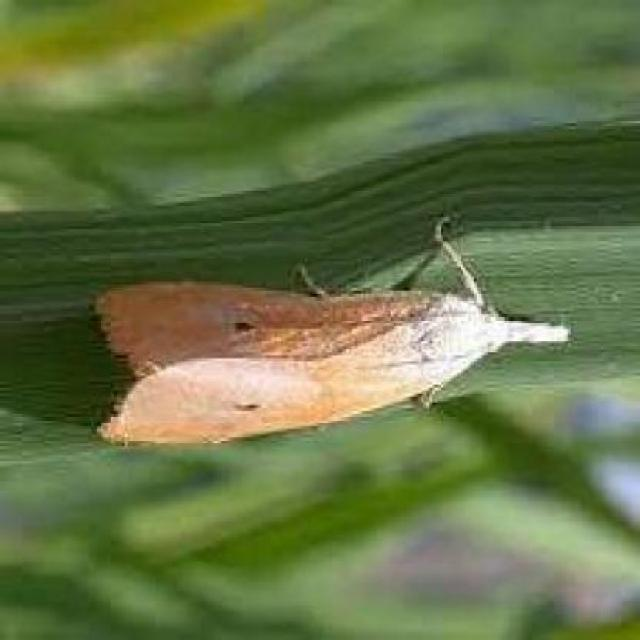stem-borer: (91, 210, 574, 448)
